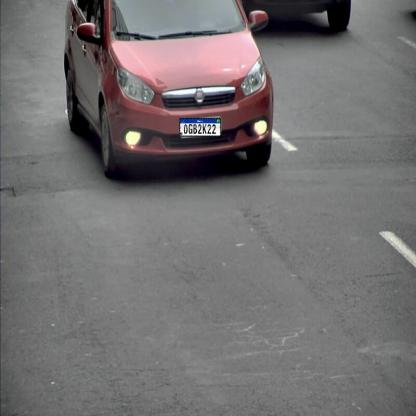PlacaM: (179, 118, 221, 136)
